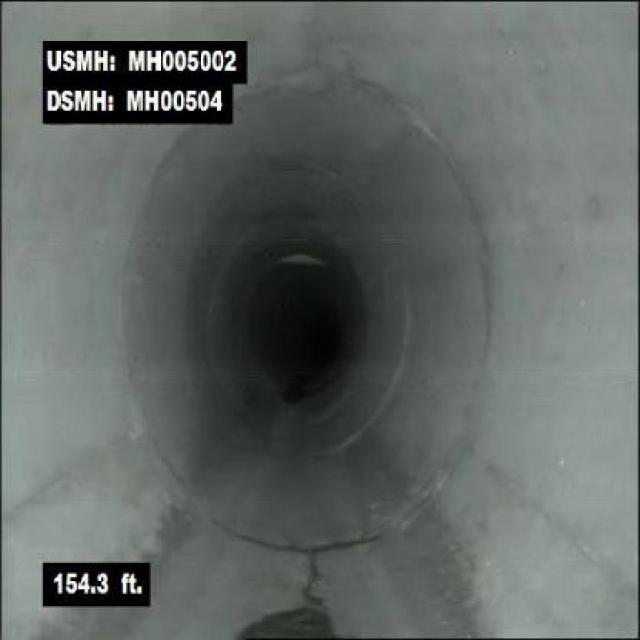Crack: (502, 460, 626, 600), (24, 442, 119, 536), (279, 549, 363, 614)
